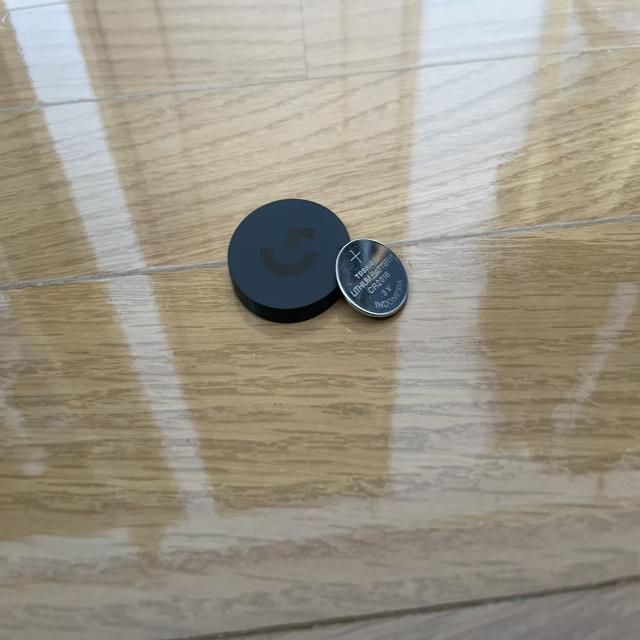COIN: (333, 237, 410, 320)
